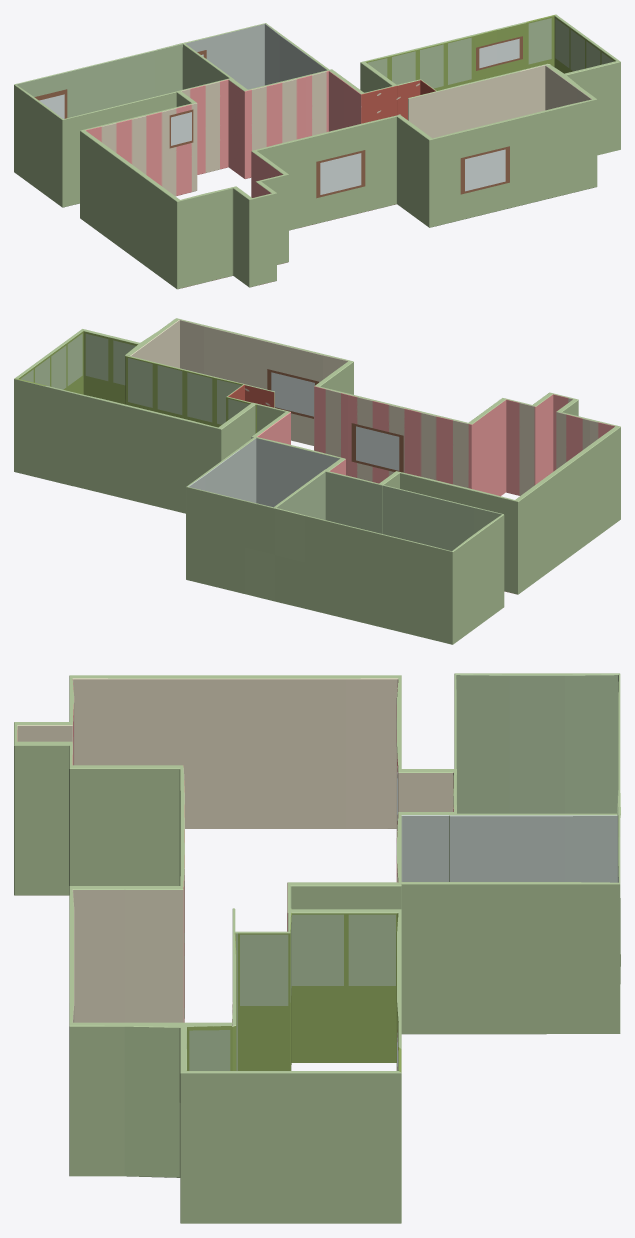
Rendered from N1_Paredes.fbx.
3 views of the same model, one above another, from view 1: azimuth 30°, elevation 25°; view 2: azimuth 150°, elevation 25°; view 3: azimuth 270°, elevation 25° (orthographic). The views are drawn at different scales.
Parts seen in each view (by area): view 1: N1_paredes; view 2: N1_paredes; view 3: N1_paredes.
Boxes of the visible parts, bbox=[...] form: N1_paredes: bbox=[14, 14, 620, 289]; N1_paredes: bbox=[14, 318, 620, 644]; N1_paredes: bbox=[14, 673, 620, 1223].
Size of the model in its own units: 1708 by 301 by 1096.
Materials: 10 (10 with a texture image).
